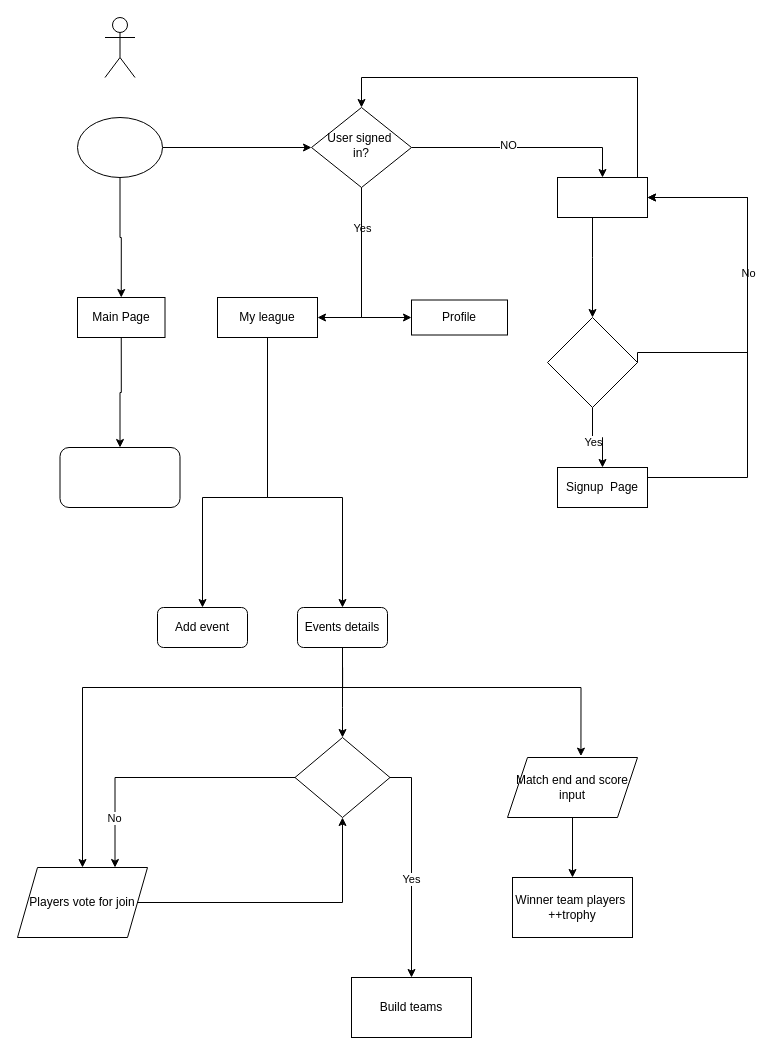
The diagram is 773 pixels wide and 1055 high, and some of its shapes have lost their labels. The centre of each missing label's shape, as x and y in pixels:
Dont have an account?: pixel 592 362
Launch app: pixel 119 147
Main team is ready?: pixel 342 777
Player: pixel 119 47
Select a league and see most winner player, players, scores: pixel 119 477
Signin Page: pixel 602 197
